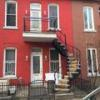stairs: (54, 53, 82, 100)
